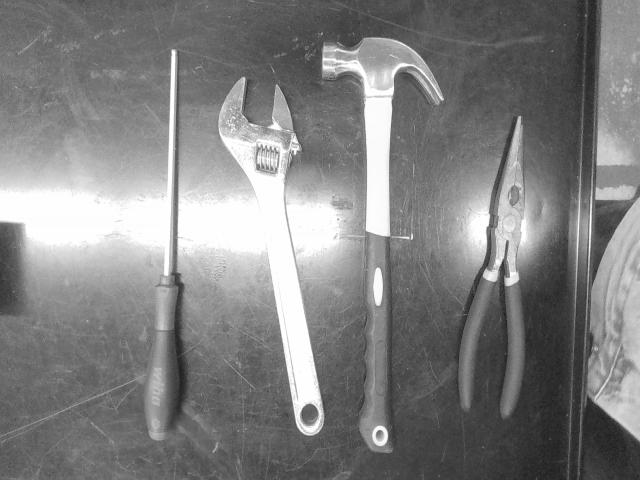Adjustable spanner: (219, 78, 324, 435)
Hammer: (321, 38, 444, 452)
Needle-nose pliers: (459, 118, 525, 418)
Screwdriver: (145, 48, 179, 442)
